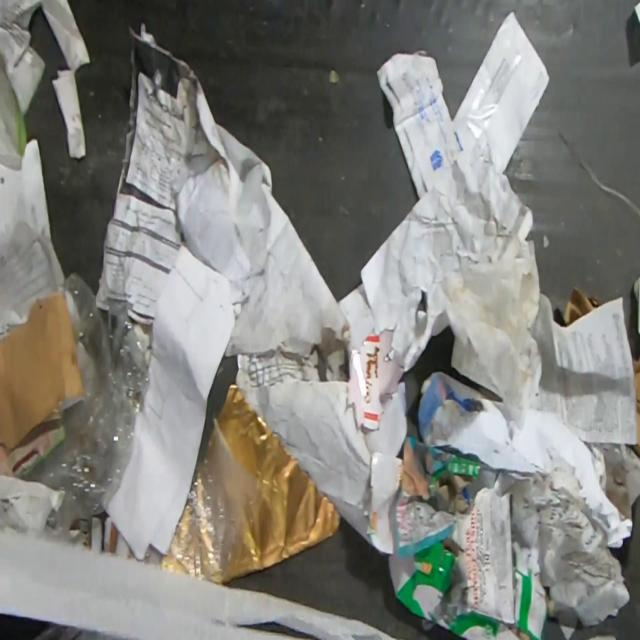cardboard: (386, 539, 550, 640), (0, 292, 84, 450), (558, 283, 602, 326)
soft_plastic: (31, 270, 154, 541), (204, 383, 344, 580), (158, 454, 245, 586)
